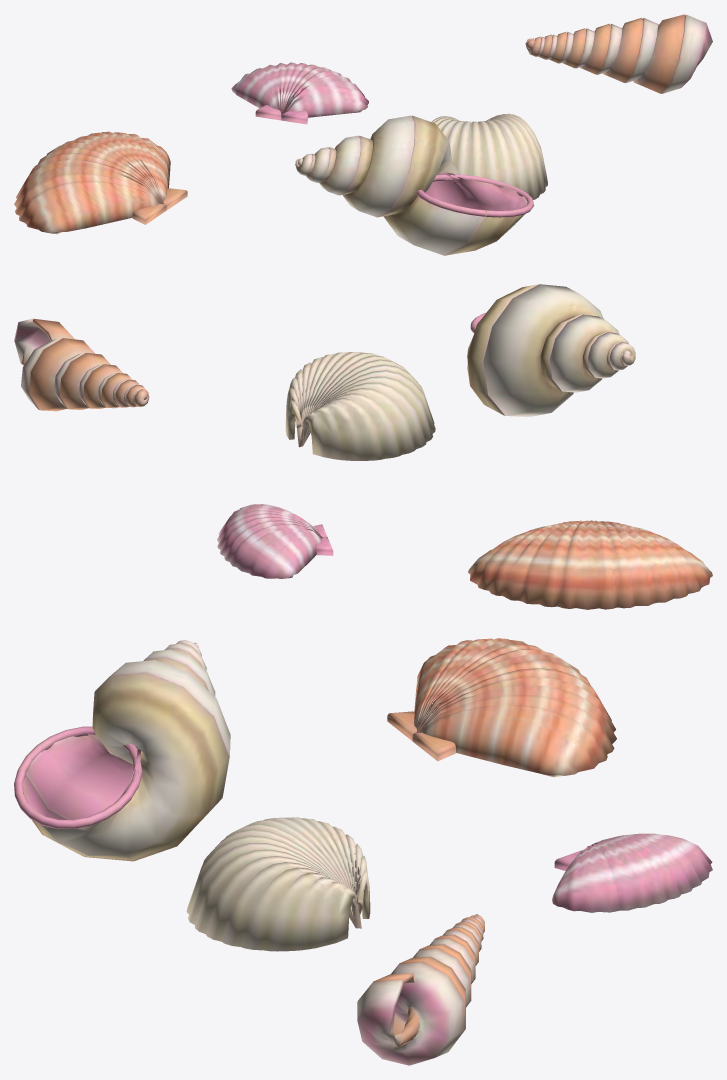
The model's file is shell.glb.
The picture shows the model from 3 angles, top to bottom: view 1: azimuth 30°, elevation 25°; view 2: azimuth 150°, elevation 25°; view 3: azimuth 270°, elevation 25°; orthographic projection. The views are drawn at different scales.
Parts seen in each view (by area): view 1: seashell_body; view 2: seashell_body; view 3: seashell_body.
Part boxes in pixels (x1,y1,x2,y2): seashell_body: (14,14,712,255); seashell_body: (14,284,712,609); seashell_body: (14,638,712,1065).
Bounding box in the file's own units: 0.3046 × 0.0548 × 0.2088.
1 material, 1 textured.
